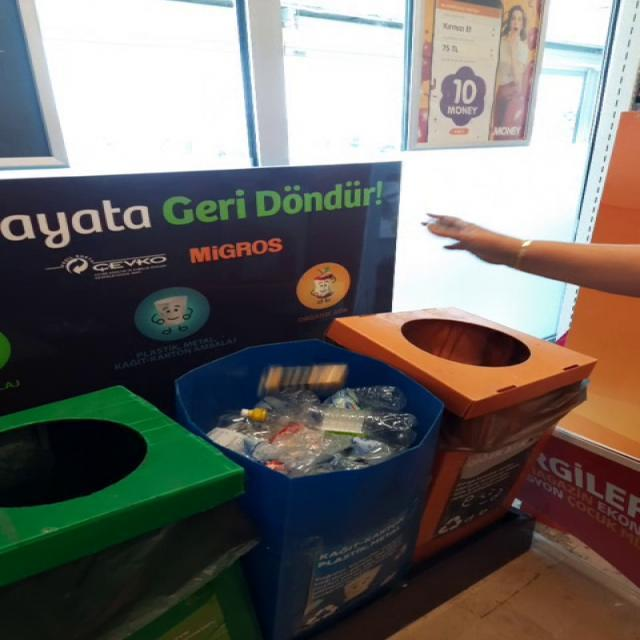Metal: (257, 364, 348, 398)
